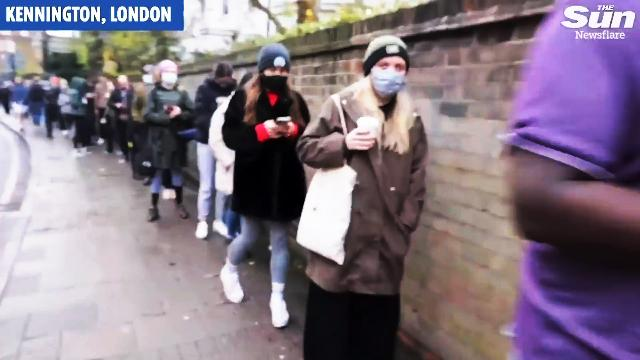berdiri: (308, 26, 426, 360), (135, 54, 189, 229)
